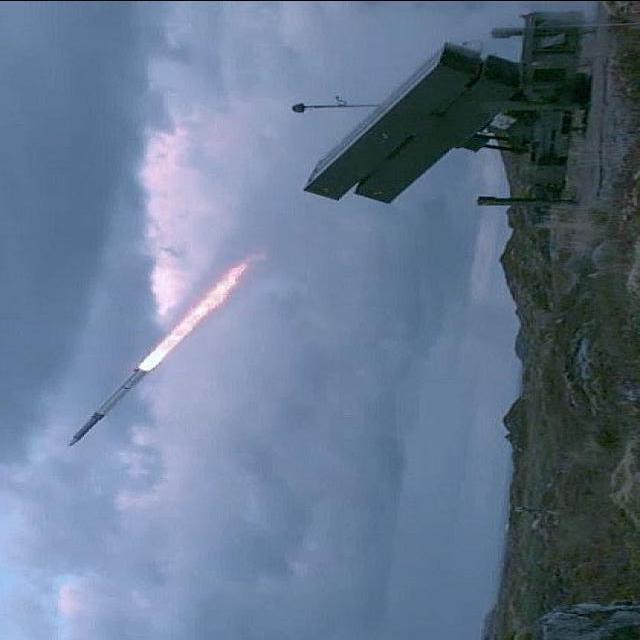missile: (70, 365, 147, 447)
